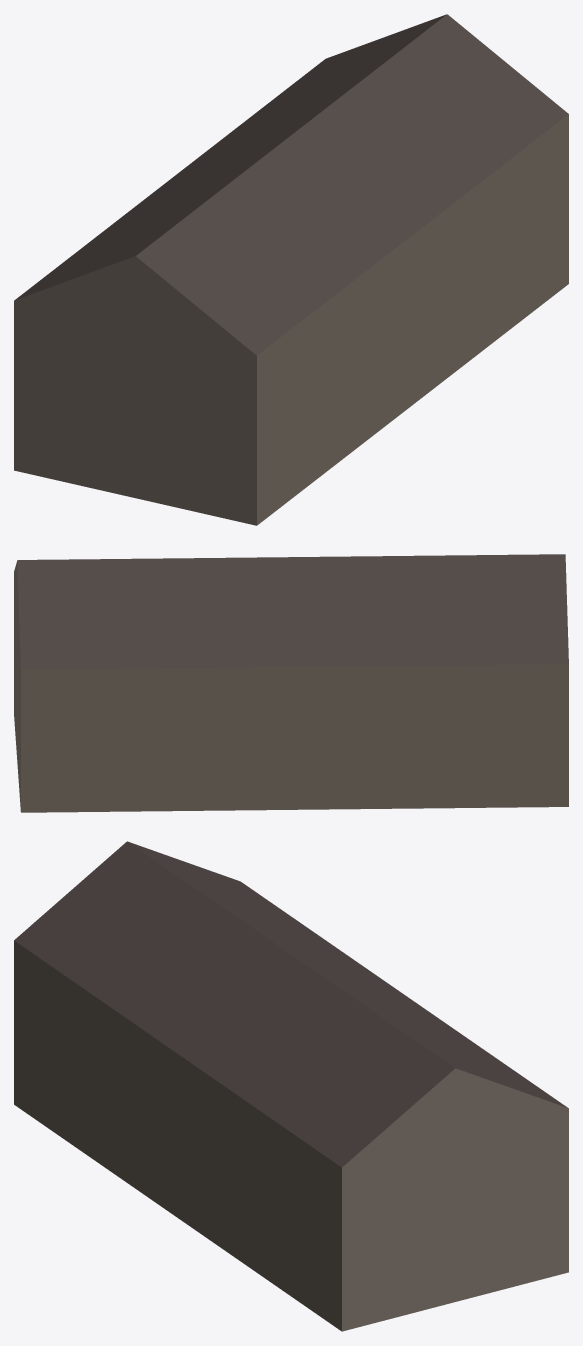
The picture shows the model from 3 angles, top to bottom: view 1: azimuth 30°, elevation 25°; view 2: azimuth 150°, elevation 25°; view 3: azimuth 270°, elevation 25°; orthographic projection. The views are drawn at different scales.
Visible parts, largest first — view 1: HP-w369237851; view 2: HP-w369237851; view 3: HP-w369237851.
Part boxes in pixels (x1=…): HP-w369237851: x1=14, y1=14, x2=568, y2=525; HP-w369237851: x1=14, y1=554, x2=568, y2=812; HP-w369237851: x1=14, y1=841, x2=568, y2=1331.
Size of the model in its own units: 22.46 by 8.55 by 18.4.
